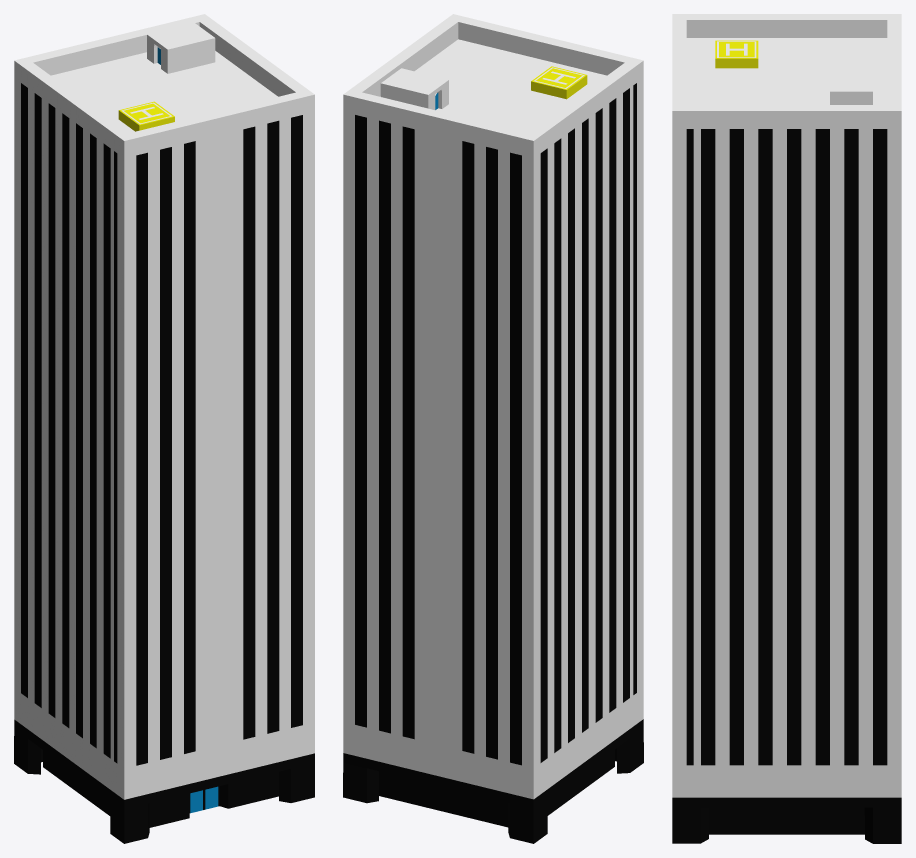
3 renders of one model, left to right at view 1: azimuth 30°, elevation 25°; view 2: azimuth 150°, elevation 25°; view 3: azimuth 270°, elevation 25°, orthographic. The views are drawn at different scales.
Visible parts, largest first — view 1: Cube; view 2: Cube; view 3: Cube.
Part boxes in pixels (x1,y1,x2,y2): Cube: (14, 14, 314, 843); Cube: (343, 14, 643, 843); Cube: (672, 14, 901, 843).
Size of the model in its own units: 1237 by 4401 by 1237.
